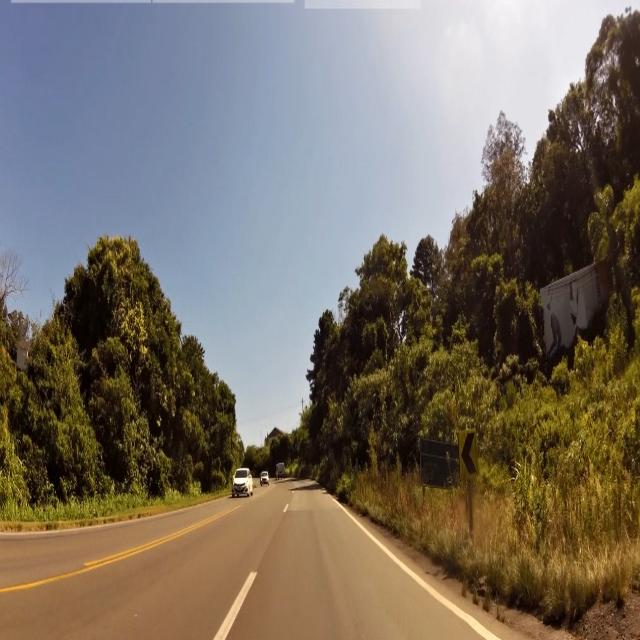Del: (461, 429, 480, 483)
